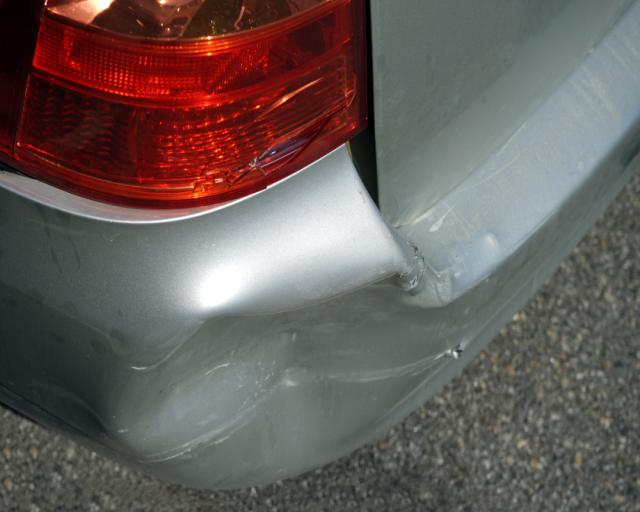dent: (132, 272, 447, 473)
